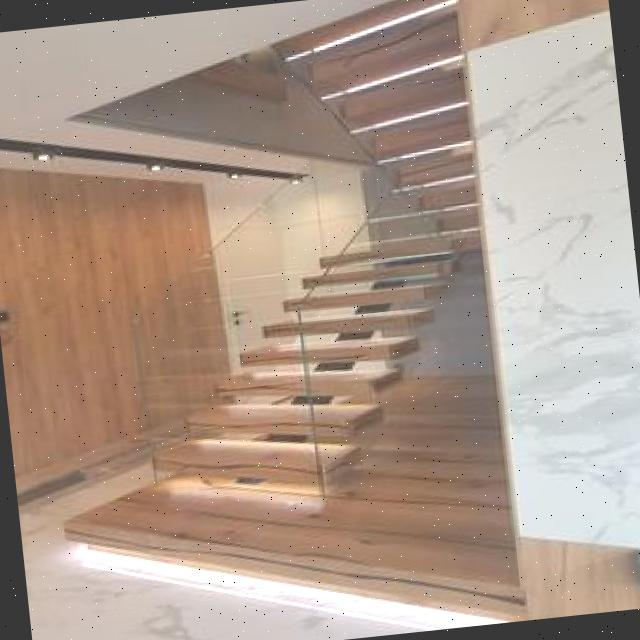stairs: (121, 178, 490, 520)
